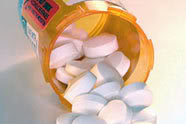pill bottle: (16, 1, 155, 113)
